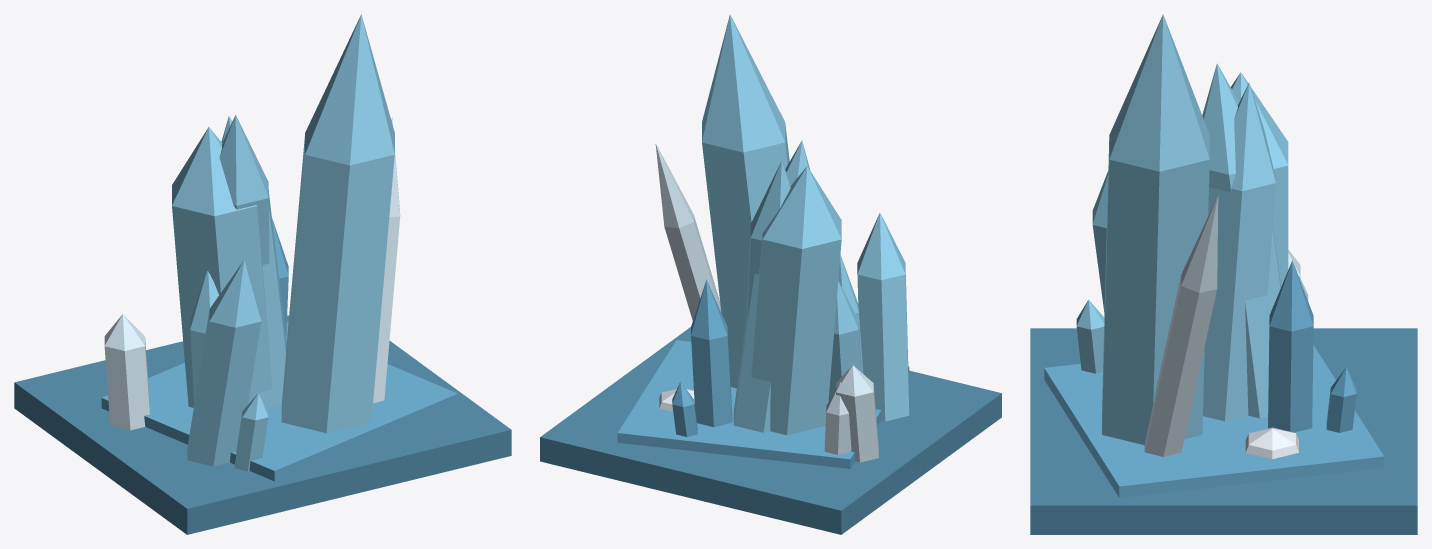
File: crystalline_flat.glb
3 views of the same model, side by side, from view 1: azimuth 30°, elevation 25°; view 2: azimuth 150°, elevation 25°; view 3: azimuth 270°, elevation 25° (orthographic). The views are drawn at different scales.
Visible parts, largest first — view 1: CrystCluster_Main, CrystBase, CrystSmallFront, CrystBase2, CrystTiny, CrystTall, CrystSmallBack; view 2: CrystCluster_Main, CrystBase, CrystSmallFront, CrystBase2, CrystSmallBack, CrystTall, CrystTiny; view 3: CrystCluster_Main, CrystBase, CrystBase2, CrystTall, CrystSmallBack, CrystSmallFront, Frost_0.
Part boxes in pixels (left/top/right/bottom): CrystCluster_Main: left=172, top=14, right=394, bottom=433; CrystBase: left=14, top=315, right=511, bottom=534; CrystSmallFront: left=187, top=260, right=268, bottom=471; CrystBase2: left=101, top=321, right=457, bottom=481; CrystTiny: left=104, top=314, right=149, bottom=430; CrystTall: left=373, top=117, right=400, bottom=403; CrystSmallBack: left=272, top=218, right=288, bottom=338; CrystCluster_Main: left=702, top=14, right=863, bottom=435; CrystBase: left=540, top=327, right=1001, bottom=534; CrystSmallFront: left=828, top=213, right=909, bottom=421; CrystBase2: left=617, top=340, right=909, bottom=468; CrystSmallBack: left=672, top=280, right=732, bottom=436; CrystTall: left=655, top=143, right=721, bottom=320; CrystTiny: left=824, top=365, right=878, bottom=462; CrystCluster_Main: left=1102, top=14, right=1288, bottom=444; CrystBase: left=1030, top=328, right=1417, bottom=534; CrystBase2: left=1044, top=345, right=1384, bottom=497; CrystTall: left=1144, top=195, right=1218, bottom=456; CrystSmallBack: left=1268, top=260, right=1356, bottom=432; CrystSmallFront: left=1076, top=171, right=1108, bottom=373; Frost_0: left=1245, top=427, right=1298, bottom=459.
Size of the model in its own units: 1.3 by 1.61 by 1.2.
